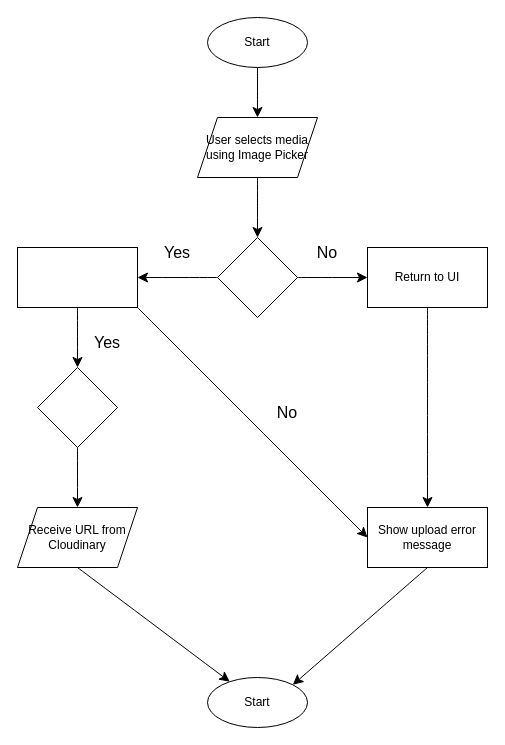
Image size: 505x745. Some labels were removed from this diagram. The shapes that lost their labels are listed below. From the top down, each one's box as (x1, y1, x2, y2) in pixels, then its label:
(16, 246, 138, 308): Upload file to Cloudinary
(216, 236, 298, 318): File selected?
(36, 366, 118, 448): Upload succesful?
